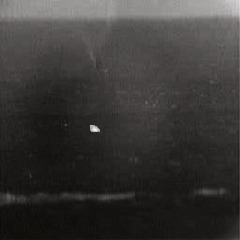Target: (89, 124, 100, 133)
